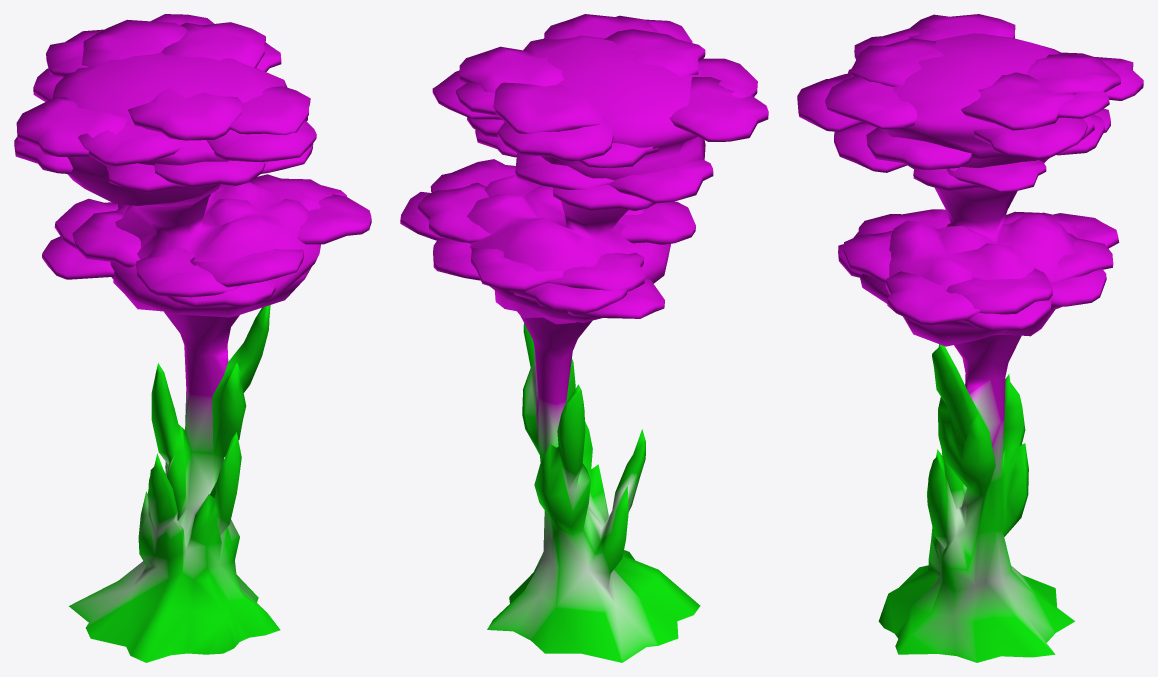
3 renders of one model, left to right at view 1: azimuth 30°, elevation 25°; view 2: azimuth 150°, elevation 25°; view 3: azimuth 270°, elevation 25°, orthographic.
Parts seen in each view (by area): view 1: G:\FFXIV-MapTools\exports\f1f2\bg\ffxiv\fst_f1\fld\f1f2\bgpa; view 2: G:\FFXIV-MapTools\exports\f1f2\bg\ffxiv\fst_f1\fld\f1f2\bgpa; view 3: G:\FFXIV-MapTools\exports\f1f2\bg\ffxiv\fst_f1\fld\f1f2\bgpa.
Part boxes in pixels (x1,y1,x2,y2): G:\FFXIV-MapTools\exports\f1f2\bg\ffxiv\fst_f1\fld\f1f2\bgpa: (14,14,371,662); G:\FFXIV-MapTools\exports\f1f2\bg\ffxiv\fst_f1\fld\f1f2\bgpa: (400,14,768,662); G:\FFXIV-MapTools\exports\f1f2\bg\ffxiv\fst_f1\fld\f1f2\bgpa: (797,14,1143,662).
Size of the model in its own units: 34.52 by 54.94 by 30.83.
